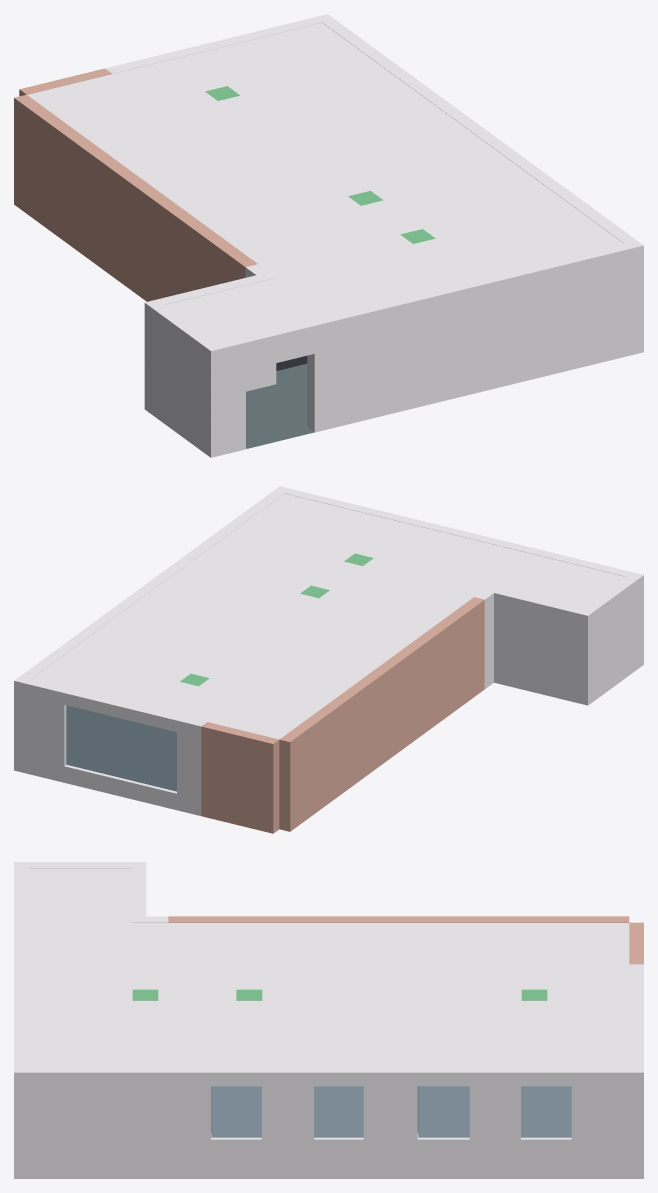
The model's file is greybox_structure.fbx.
3 views of the same model, one above another, from view 1: azimuth 30°, elevation 25°; view 2: azimuth 150°, elevation 25°; view 3: azimuth 270°, elevation 25° (orthographic). The views are drawn at different scales.
Parts seen in each view (by area): view 1: Ceiling, OuterWalls, OuterWalls.001, Floor, OuterWalls.002; view 2: Ceiling, OuterWalls, OuterWalls.001, OuterWalls.002, LargeWindow; view 3: Ceiling, OuterWalls, OuterWalls.001, Window.002, Window, Window.003, Window.001, OuterWalls.002.
Boxes of the visible parts, x1,y1,x2,y2 form: Ceiling: [27, 23, 622, 342]; OuterWalls: [105, 14, 643, 457]; OuterWalls.001: [14, 94, 257, 301]; Floor: [246, 364, 313, 448]; OuterWalls.002: [19, 68, 111, 96]; Ceiling: [31, 493, 626, 739]; OuterWalls: [14, 486, 643, 815]; OuterWalls.001: [279, 597, 484, 831]; OuterWalls.002: [201, 722, 279, 833]; LargeWindow: [66, 705, 176, 791]; Ceiling: [28, 868, 629, 1066]; OuterWalls: [14, 862, 643, 1178]; OuterWalls.001: [168, 916, 629, 922]; Window.002: [418, 1086, 469, 1137]; Window: [211, 1086, 261, 1137]; Window.003: [521, 1086, 571, 1137]; Window.001: [314, 1086, 363, 1137]; OuterWalls.002: [629, 922, 643, 964].
Size of the model in its own units: 2436 by 457 by 1925.
